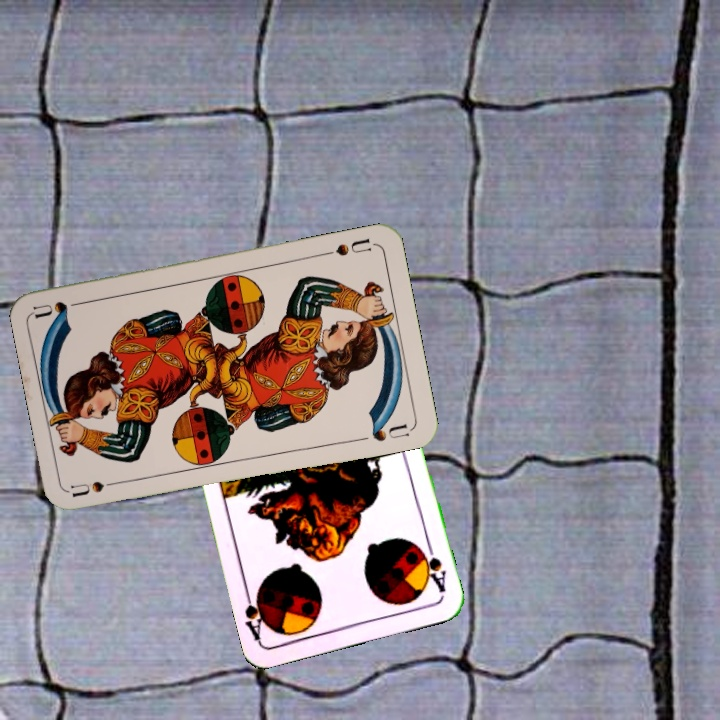SA: (415, 538, 449, 595)
SU: (318, 234, 377, 259), (68, 475, 127, 500)
